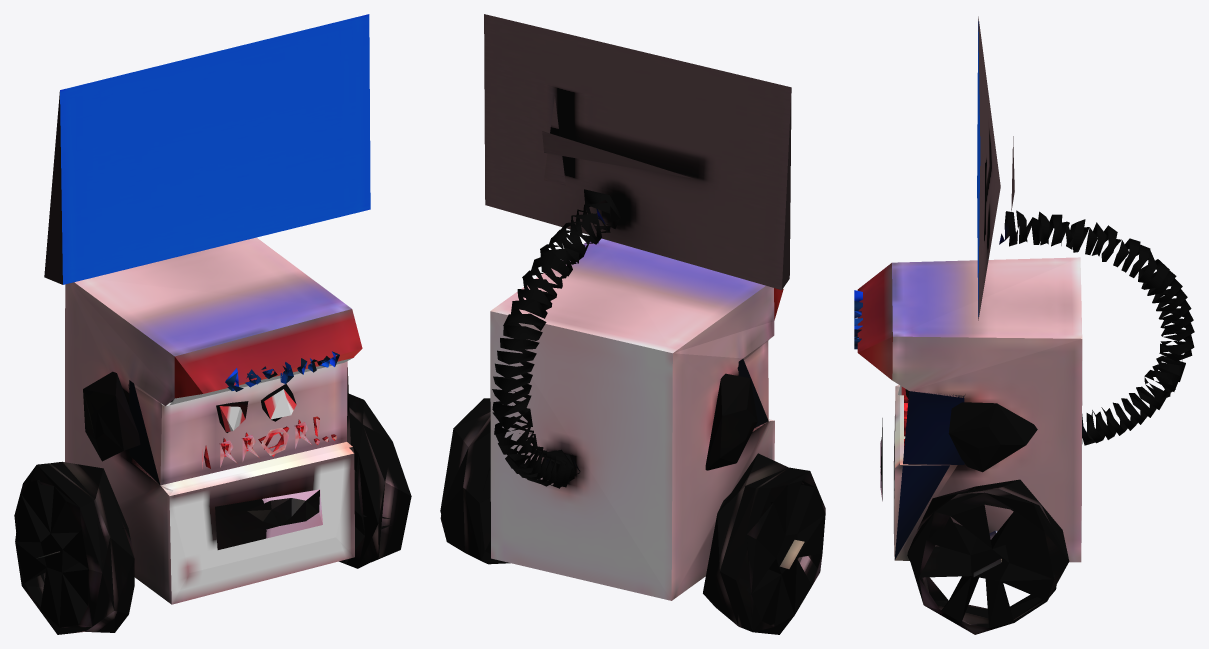
File: Computer.fbx
3 views of the same model, side by side, from view 1: azimuth 30°, elevation 25°; view 2: azimuth 150°, elevation 25°; view 3: azimuth 270°, elevation 25° (orthographic). The views are drawn at different scales.
Visible parts, largest first — view 1: Computer; view 2: Computer; view 3: Computer.
Boxes of the visible parts, x1,y1,x2,y2 form: Computer: [14, 14, 411, 634]; Computer: [440, 14, 825, 634]; Computer: [854, 16, 1194, 634].
Bounding box in the file's own units: 0.3341 × 0.5276 × 0.3319.
